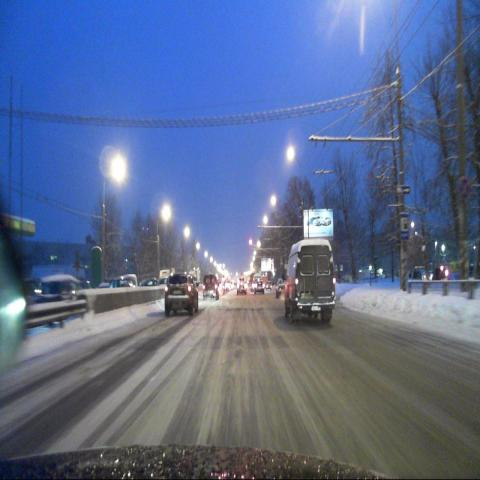7_3: (399, 211, 409, 239)
